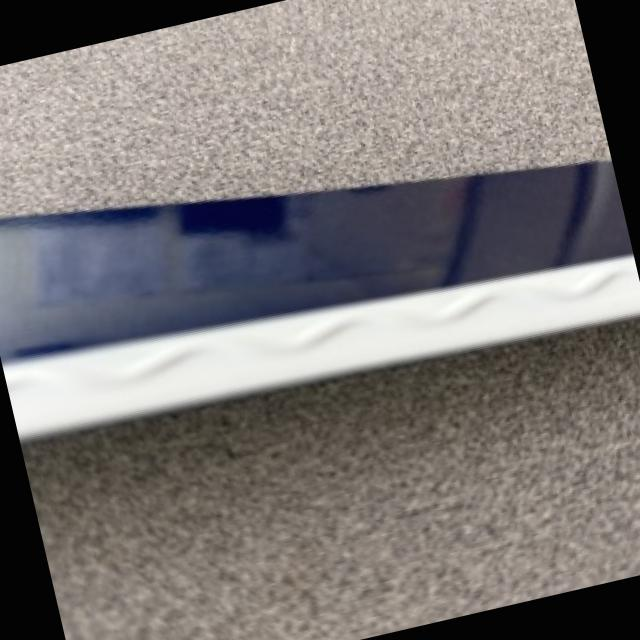healthy: (0, 161, 640, 436)
